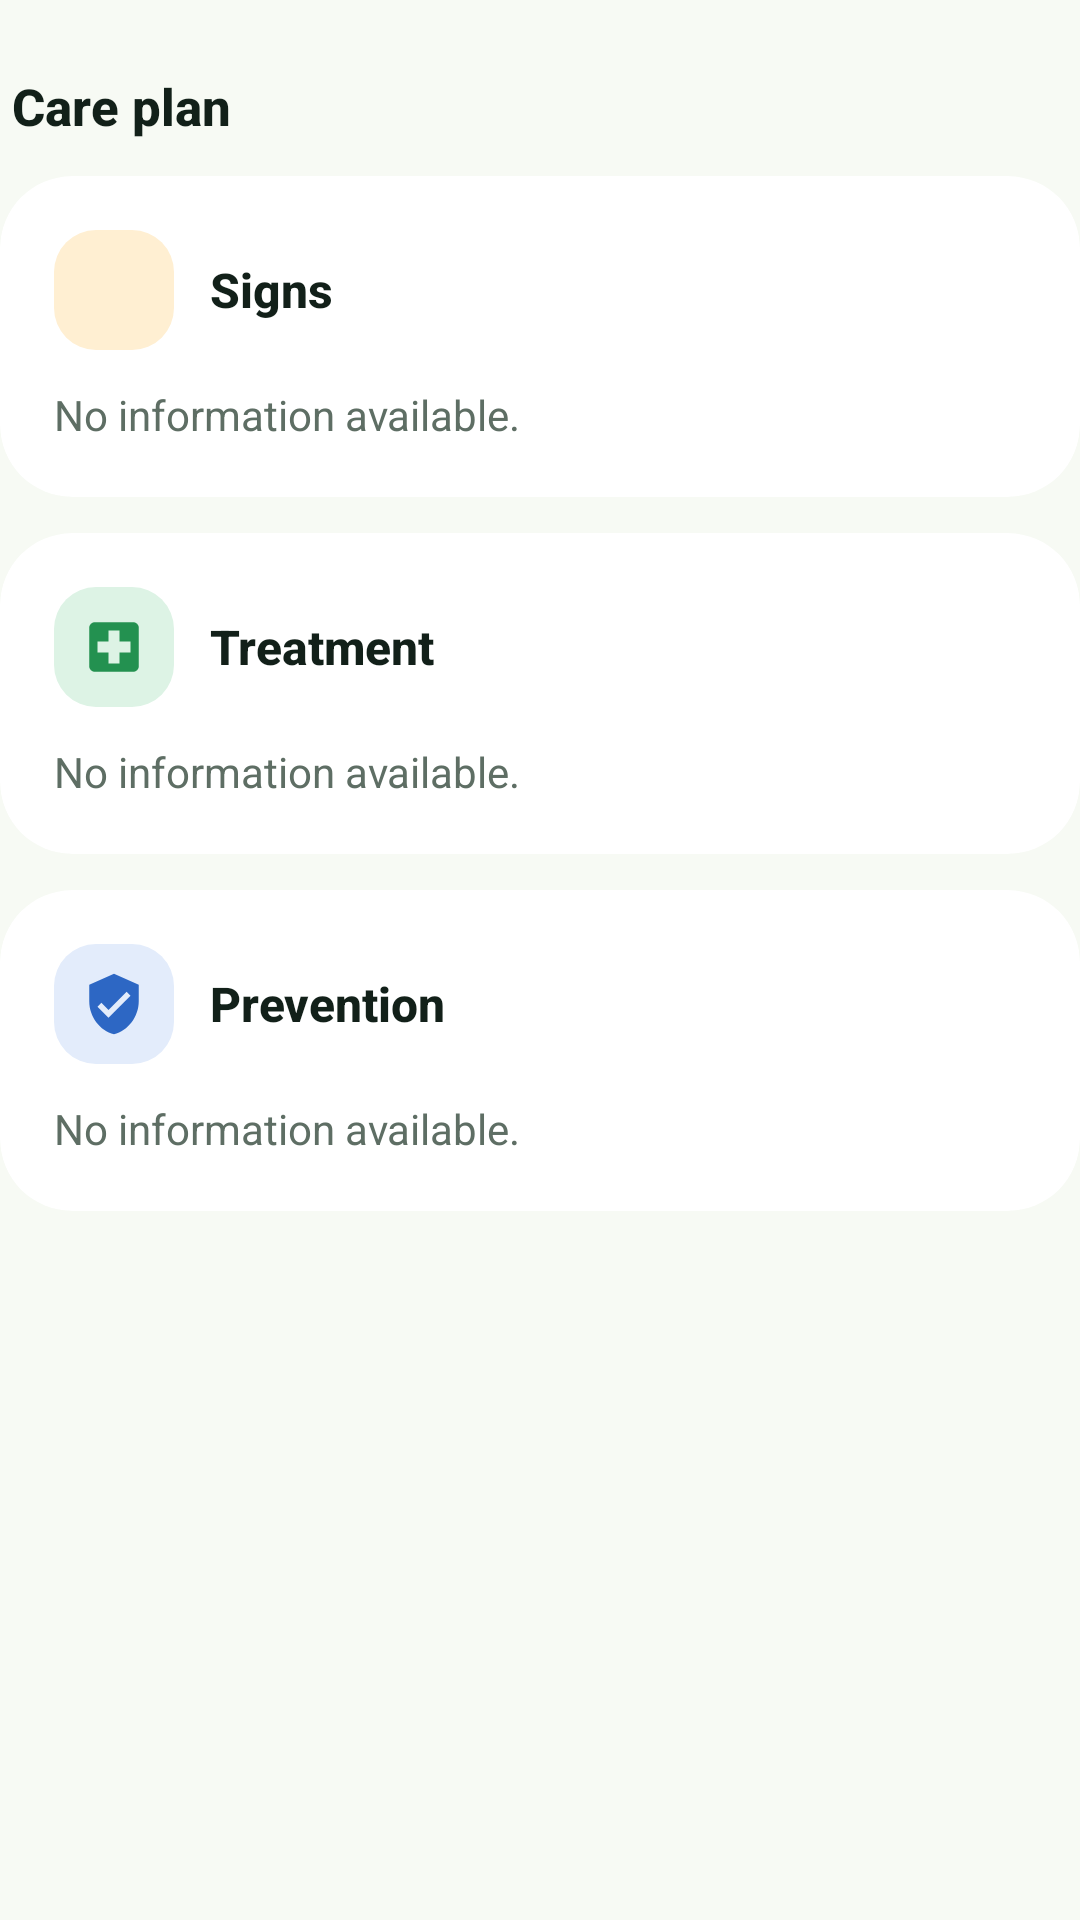

Icons on this 1080*1920 Android screen, each with its box as (x1,y1,x2,y2):
adv shield: (89,974,139,1034)
